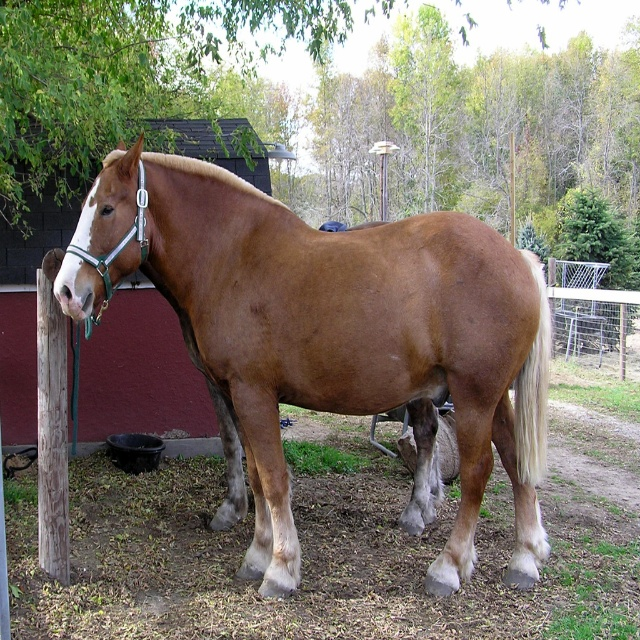Horse: (54, 126, 554, 603)
